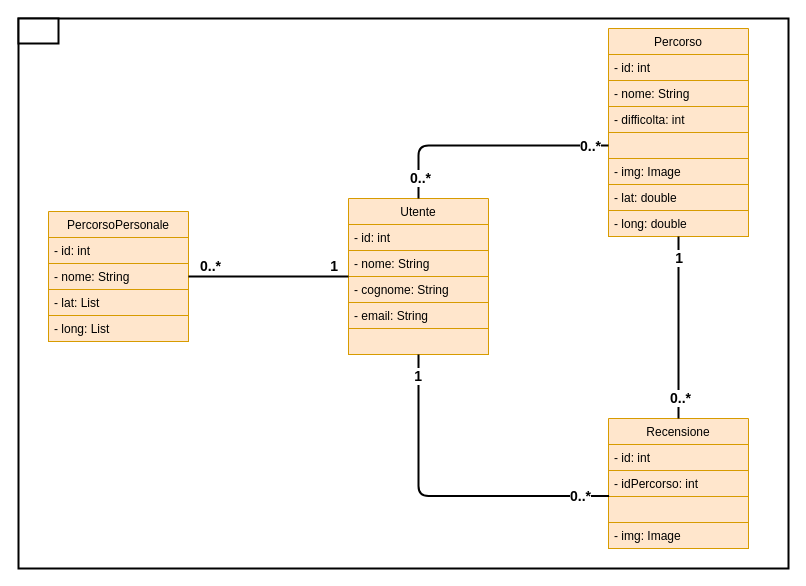
This 806x586 diagram has some shape labels left out. Each missing label, with the centre of its shape:
- lunghezza: double: point 678,145
- password: String: point 418,341
- valore: int: point 678,509
Data: point 38,30
